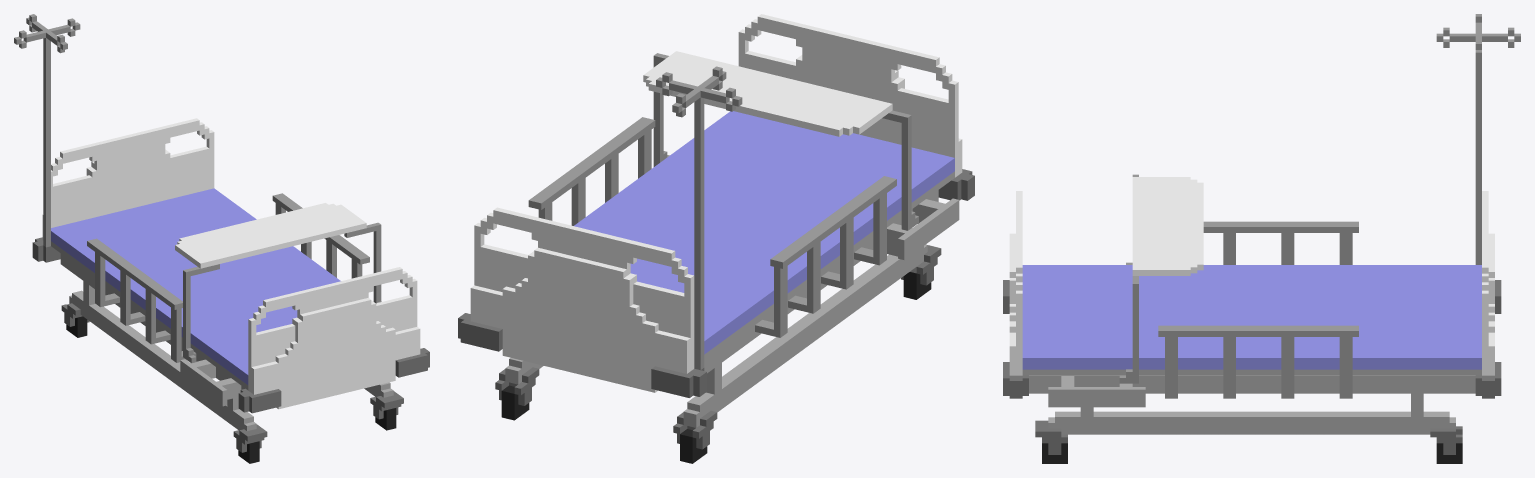
File: Operating_room_bed2-1.fbx
The picture shows the model from 3 angles, left to right: view 1: azimuth 30°, elevation 25°; view 2: azimuth 150°, elevation 25°; view 3: azimuth 270°, elevation 25°; orthographic projection. The views are drawn at different scales.
Parts seen in each view (by area): view 1: Operating room bed2-1.001, Operating room bed2-1.003; view 2: Operating room bed2-1.001, Operating room bed2-1.003; view 3: Operating room bed2-1.001, Operating room bed2-1.003.
Boxes of the visible parts, x1=… form: Operating room bed2-1.001: x1=14, y1=14, x2=429, y2=463; Operating room bed2-1.003: x1=175, y1=203, x2=381, y2=348; Operating room bed2-1.001: x1=458, y1=14, x2=974, y2=463; Operating room bed2-1.003: x1=643, y1=51, x2=911, y2=217; Operating room bed2-1.001: x1=1003, y1=14, x2=1520, y2=463; Operating room bed2-1.003: x1=1132, y1=174, x2=1203, y2=371.
Bounding box in the file's own units: 4.4 × 5.9 × 8.
